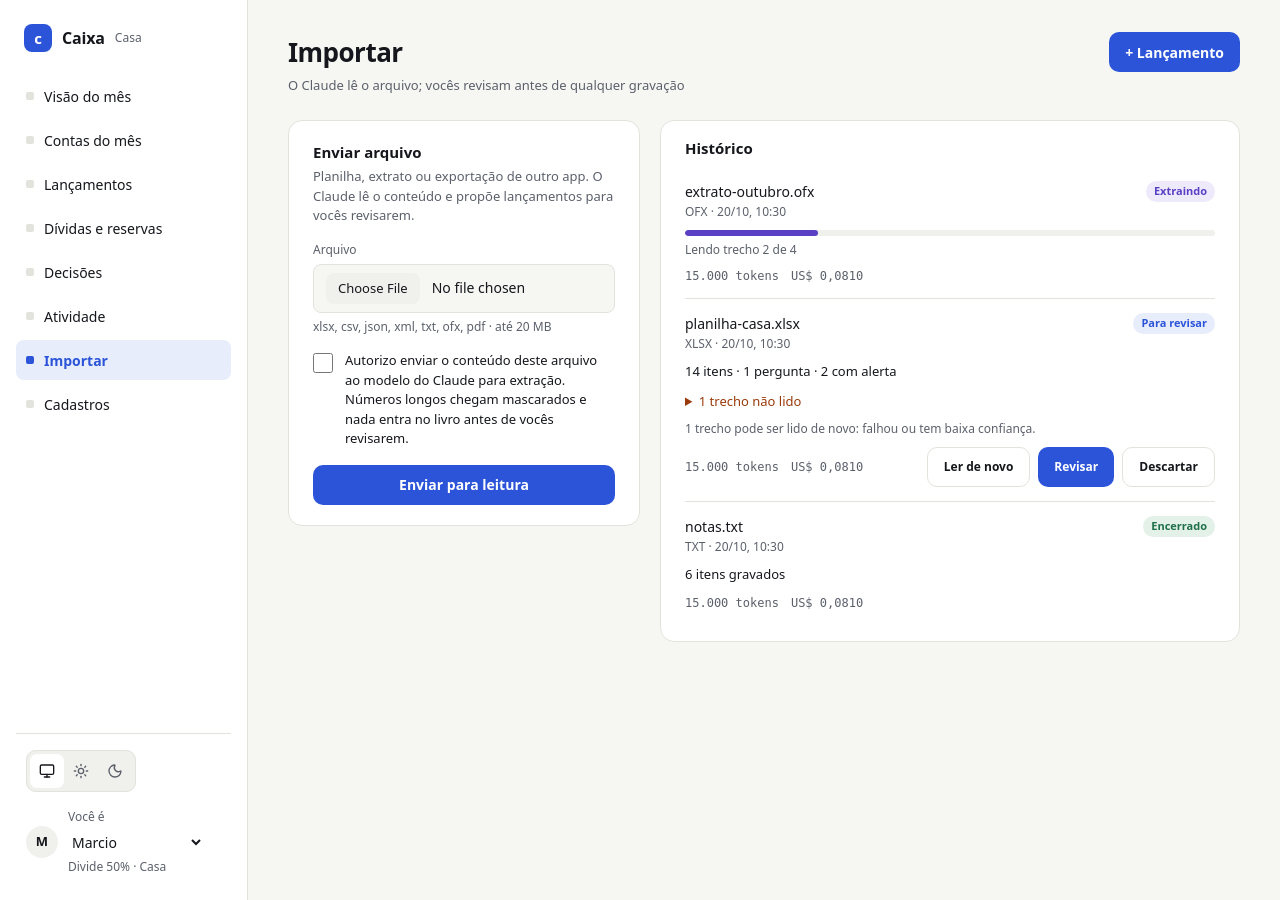
Test: discards a batch after a confirmation
Click the button with aria-label "Descartar planilha-casa.xlsx": [1169, 467] box [1122,447,1215,487]
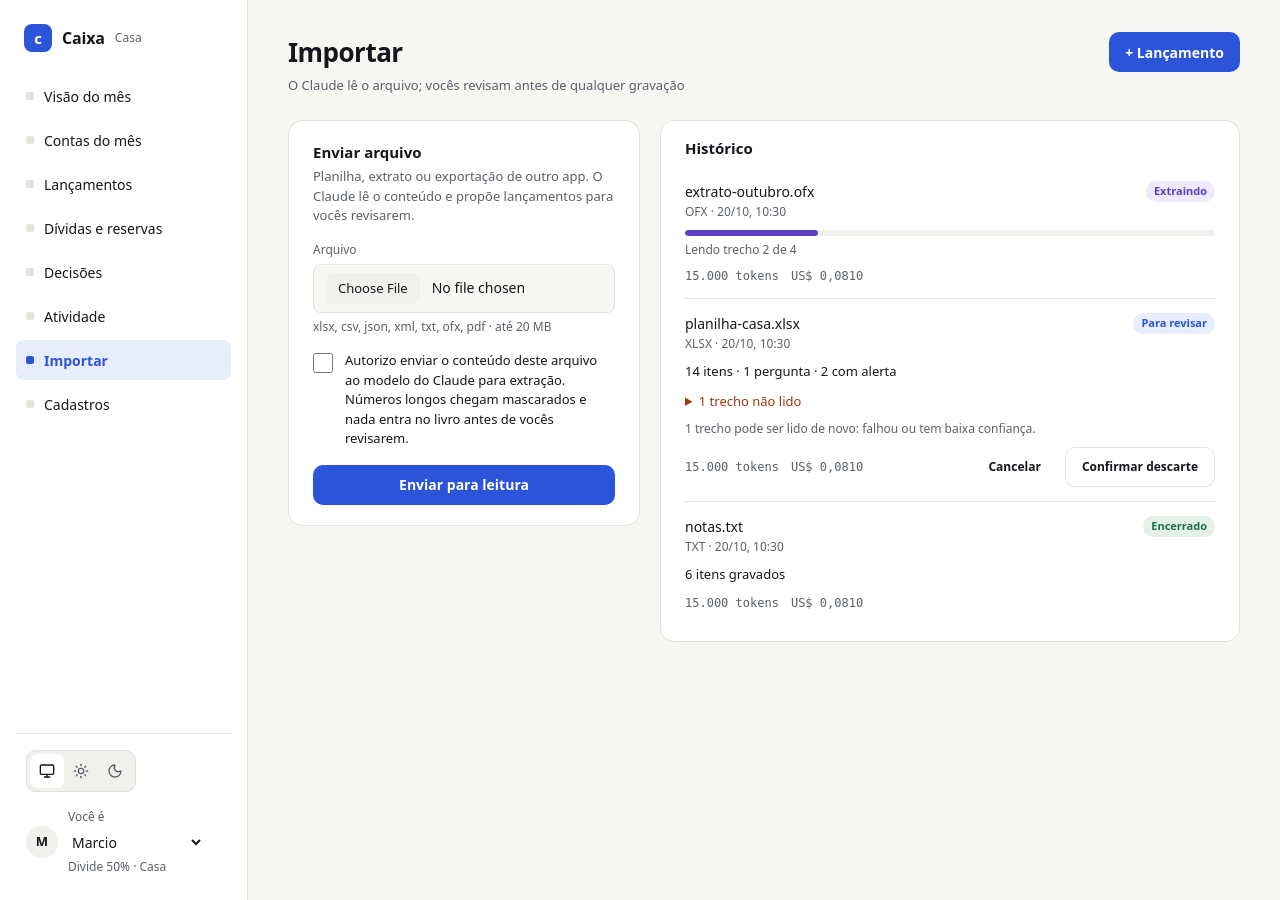
Click the button "Cancelar": [1015, 467] box [972,447,1057,487]
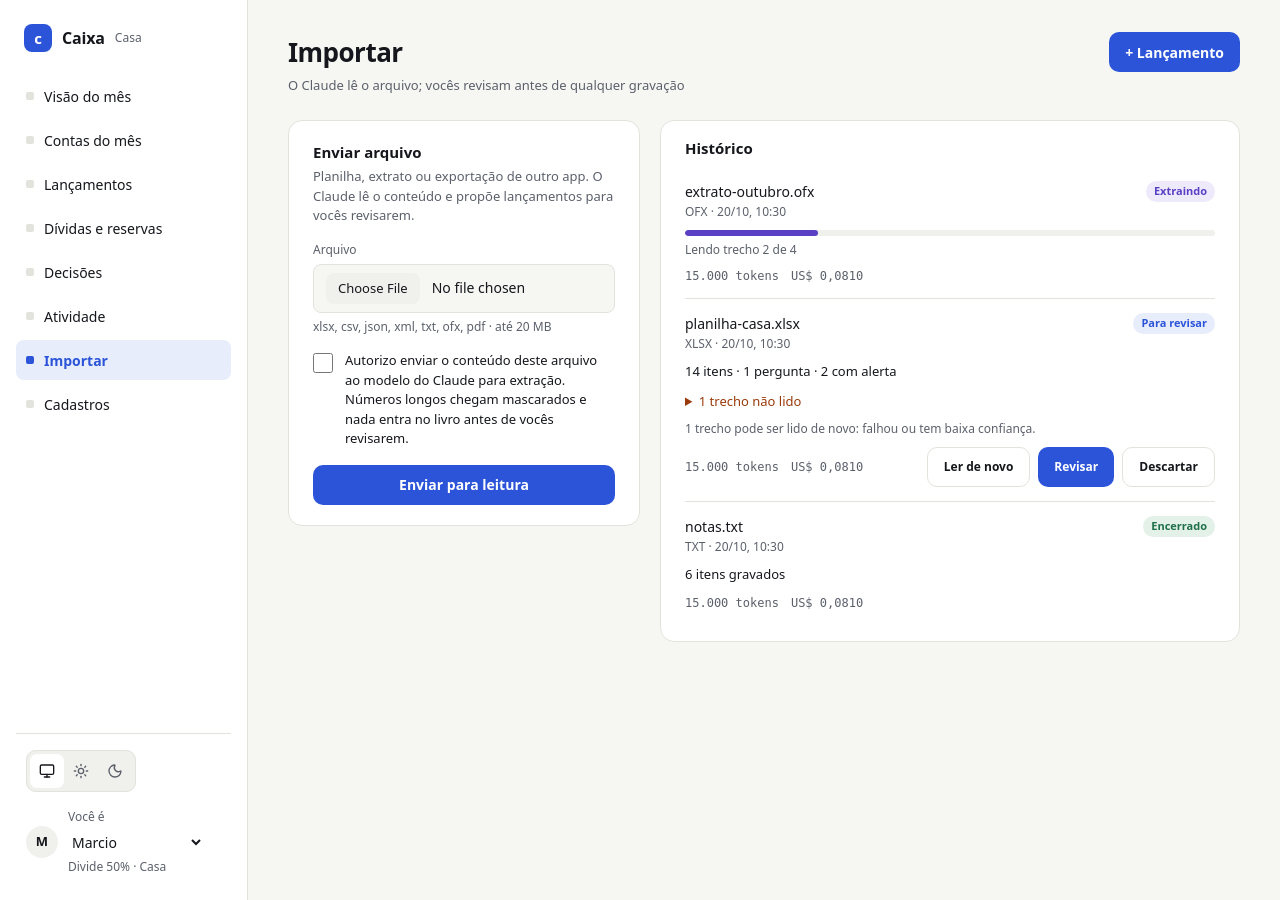
Click the button with aria-label "Descartar planilha-casa.xlsx": [1169, 467] box [1122,447,1215,487]
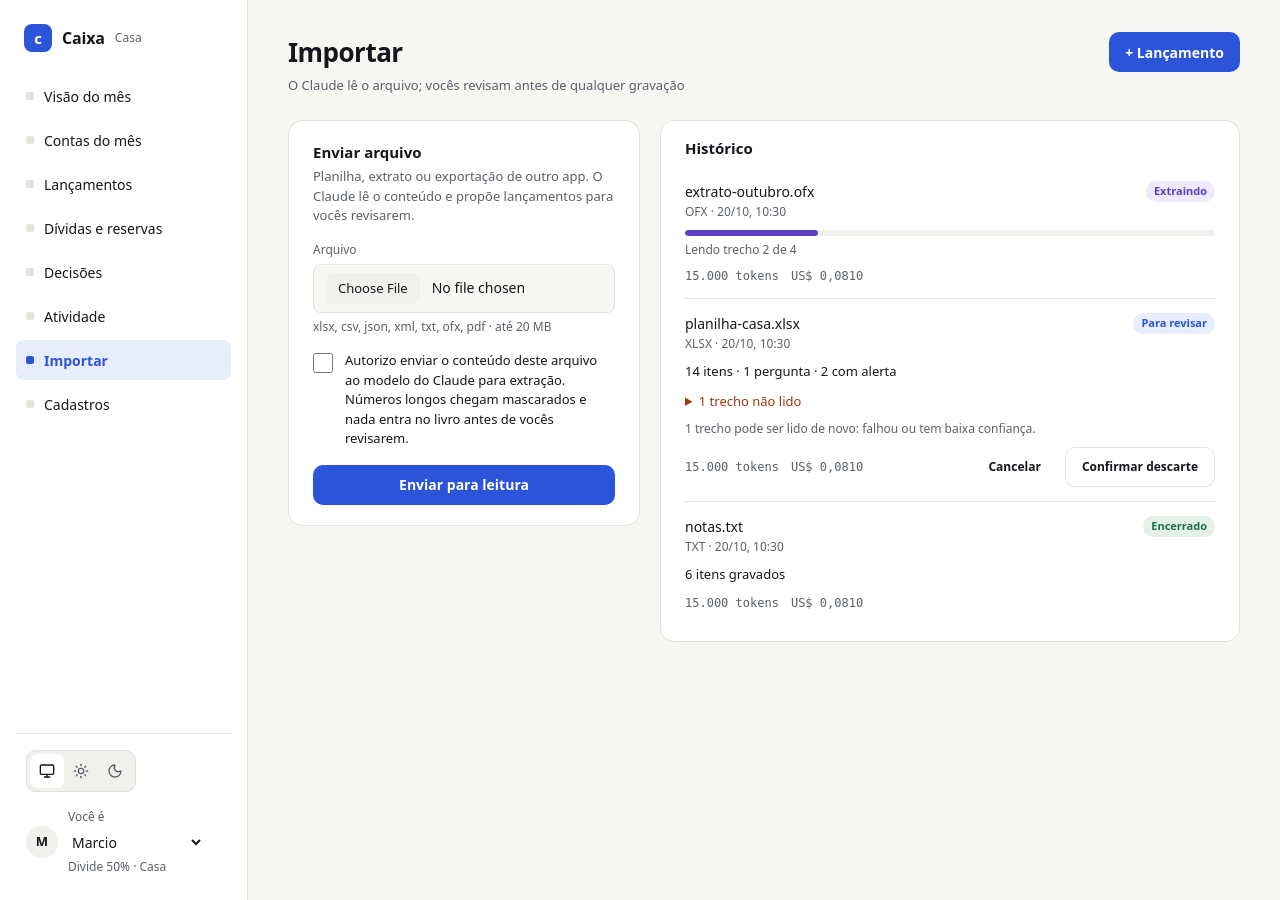
Click the button with aria-label "Confirmar descarte de planilha-casa.xlsx": [1140, 467] box [1065,447,1215,487]
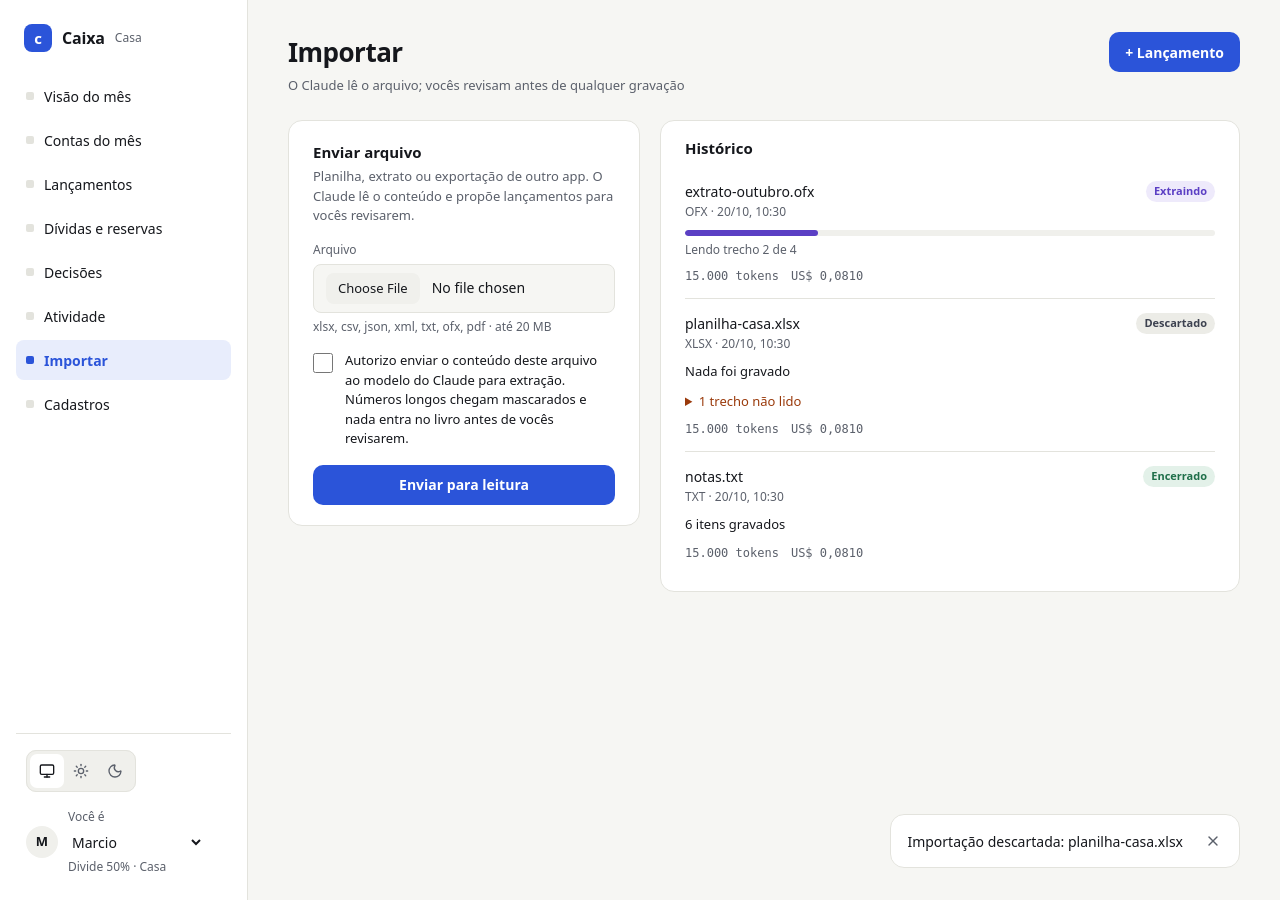
Expected: the text "Importação descartada: planilha-casa.xlsx" is shown, [907,830,1183,852]
Expected: the text "Descartado" is shown, [1136,313,1215,334]
Expected: the text "Nada foi gravado" is shown, [685,362,790,380]
